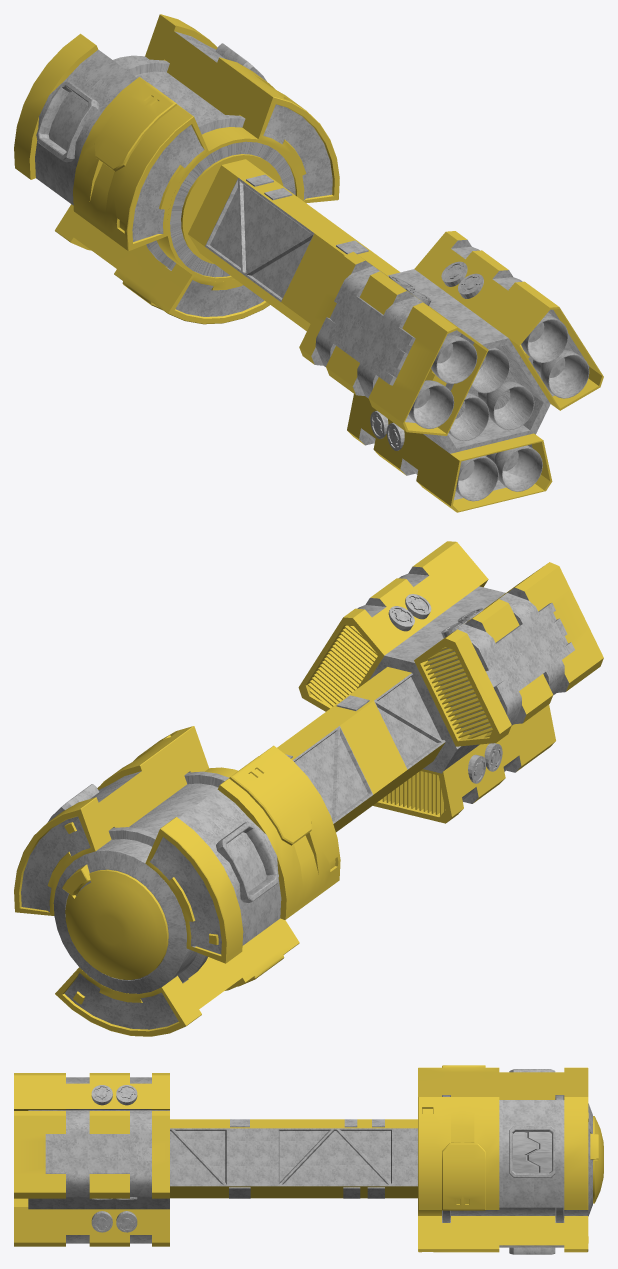
File: Cruiser.fbx
3 renders of one model, top to bottom at view 1: azimuth 30°, elevation 25°; view 2: azimuth 150°, elevation 25°; view 3: azimuth 270°, elevation 25°, orthographic. The views are drawn at different scales.
Parts seen in each view (by area): view 1: ME_Cruiser_Rotator, ME_Cruiser_Engine, ME_Cruiser_join, ME_Cruiser_Engine.001, ME_Cruiser_Engine.002, ME_Cruiser_Bridge, ME_Cruiser_Main_Engine; view 2: ME_Cruiser_Rotator, ME_Cruiser_Engine, ME_Cruiser_Bridge, ME_Cruiser_join, ME_Cruiser_Engine.001, ME_Cruiser_Engine.002, ME_Cruiser_Main_Engine; view 3: ME_Cruiser_Rotator, ME_Cruiser_join, ME_Cruiser_Engine.001, ME_Cruiser_Engine.002, ME_Cruiser_Engine, ME_Cruiser_Bridge, ME_Cruiser_Main_Engine.
Part boxes in pixels (box(x1,y1,x2,y2)): ME_Cruiser_Rotator: box(14, 14, 339, 324); ME_Cruiser_Engine: box(299, 252, 488, 435); ME_Cruiser_join: box(188, 159, 399, 331); ME_Cruiser_Engine.001: box(414, 231, 603, 410); ME_Cruiser_Engine.002: box(347, 394, 552, 512); ME_Cruiser_Bridge: box(113, 55, 299, 281); ME_Cruiser_Main_Engine: box(388, 269, 550, 453); ME_Cruiser_Rotator: box(14, 726, 340, 1036); ME_Cruiser_Engine: box(414, 562, 603, 746); ME_Cruiser_Bridge: box(53, 767, 238, 993); ME_Cruiser_join: box(277, 667, 445, 832); ME_Cruiser_Engine.001: box(298, 541, 488, 711); ME_Cruiser_Engine.002: box(373, 704, 555, 823); ME_Cruiser_Main_Engine: box(369, 586, 505, 773); ME_Cruiser_Rotator: box(418, 1065, 588, 1254); ME_Cruiser_join: box(170, 1119, 417, 1198); ME_Cruiser_Engine.001: box(14, 1111, 169, 1199); ME_Cruiser_Engine.002: box(14, 1198, 169, 1246); ME_Cruiser_Engine: box(14, 1073, 169, 1110); ME_Cruiser_Bridge: box(418, 1095, 603, 1222); ME_Cruiser_Main_Engine: box(28, 1110, 169, 1209).
Bounding box in the file's own units: 2651 × 2585 × 8322.
